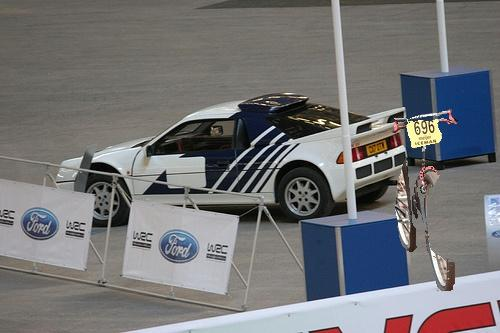tampered: (392, 110, 458, 291)
